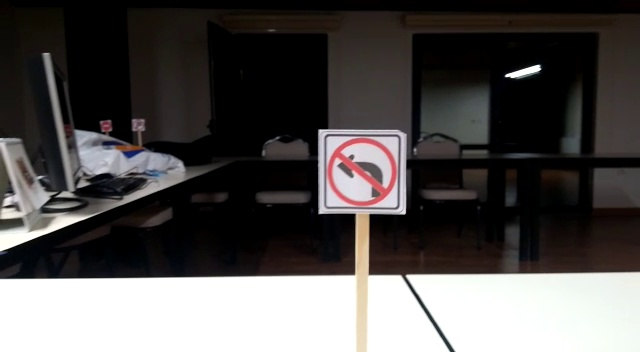sola_donulmez: (322, 133, 404, 212)
